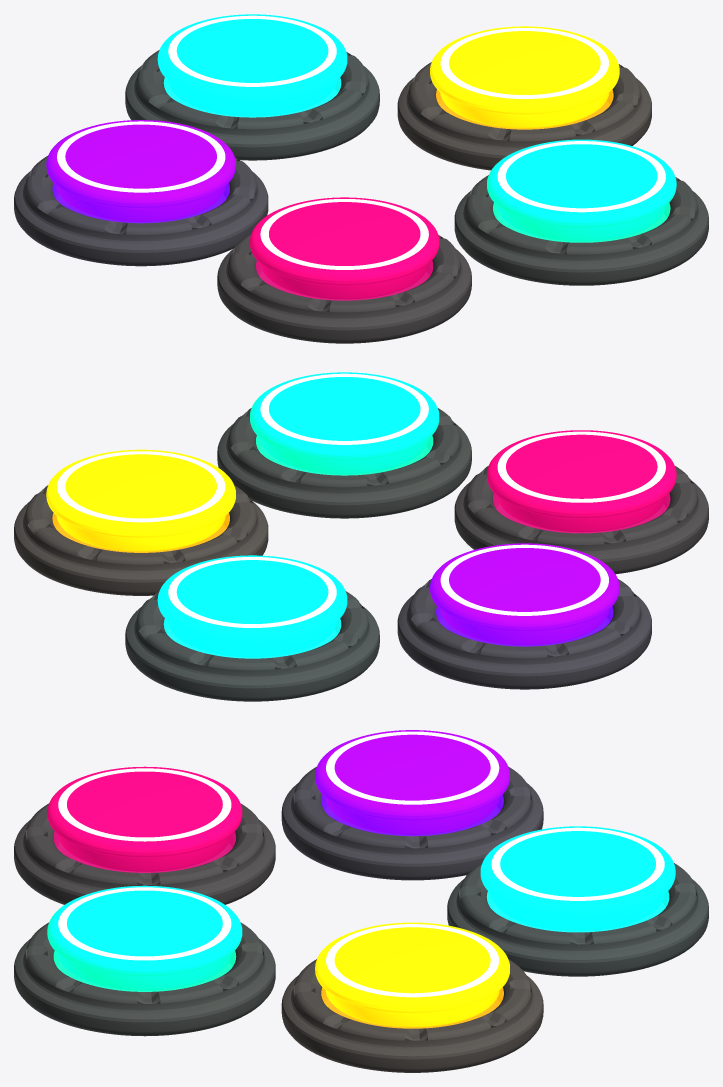
Rendered from MemoryGame_UI_Medium.glb.
3 views of the same model, one above another, from view 1: azimuth 30°, elevation 25°; view 2: azimuth 150°, elevation 25°; view 3: azimuth 270°, elevation 25° (orthographic). The views are drawn at different scales.
Visible parts, largest first — view 1: Button_Cyan_Surface, Button_Amber_Surface, Button_Crimson_Surface, Button_Jade_Surface, Button_Violet_Surface, Button_Jade_Frame, Button_Crimson_Frame, Button_Violet_Frame, Button_Cyan_Frame, Button_Amber_Frame; view 2: Button_Cyan_Surface, Button_Violet_Surface, Button_Amber_Surface, Button_Jade_Surface, Button_Crimson_Surface, Button_Cyan_Frame, Button_Violet_Frame, Button_Jade_Frame, Button_Amber_Frame, Button_Crimson_Frame; view 3: Button_Cyan_Surface, Button_Amber_Surface, Button_Violet_Surface, Button_Jade_Surface, Button_Crimson_Surface, Button_Amber_Frame, Button_Jade_Frame, Button_Violet_Frame, Button_Cyan_Frame, Button_Crimson_Frame.
Boxes of the visible parts, box(x1,y1,x2,y2) form: Button_Cyan_Surface: box(157, 14, 347, 116); Button_Amber_Surface: box(430, 26, 619, 128); Button_Crimson_Surface: box(250, 197, 439, 299); Button_Jade_Surface: box(487, 139, 676, 241); Button_Violet_Surface: box(46, 120, 235, 221); Button_Jade_Frame: box(454, 175, 708, 285); Button_Crimson_Frame: box(217, 233, 471, 343); Button_Violet_Frame: box(14, 155, 268, 266); Button_Cyan_Frame: box(125, 50, 379, 160); Button_Amber_Frame: box(397, 62, 651, 170); Button_Cyan_Surface: box(157, 555, 347, 657); Button_Violet_Surface: box(430, 543, 619, 645); Button_Amber_Surface: box(46, 449, 235, 551); Button_Jade_Surface: box(250, 372, 439, 474); Button_Crimson_Surface: box(487, 430, 676, 532); Button_Cyan_Frame: box(125, 591, 379, 701); Button_Violet_Frame: box(397, 579, 651, 689); Button_Jade_Frame: box(217, 408, 471, 518); Button_Amber_Frame: box(14, 485, 268, 595); Button_Crimson_Frame: box(454, 466, 708, 574); Button_Cyan_Surface: box(480, 826, 675, 931); Button_Amber_Surface: box(315, 922, 509, 1027); Button_Violet_Surface: box(315, 730, 509, 834); Button_Jade_Surface: box(47, 885, 242, 990); Button_Crimson_Surface: box(47, 766, 242, 871); Button_Amber_Frame: box(281, 959, 543, 1072); Button_Jade_Frame: box(14, 922, 275, 1036); Button_Violet_Frame: box(281, 766, 543, 880); Button_Cyan_Frame: box(447, 863, 708, 976); Button_Crimson_Frame: box(14, 803, 275, 904).
Size of the model in its own units: 5.48 by 0.525 by 5.31.
